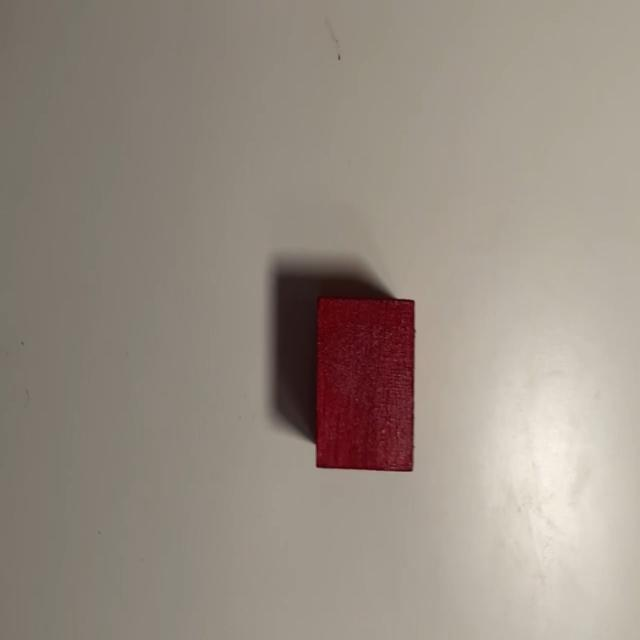red_block: (312, 285, 420, 484)
